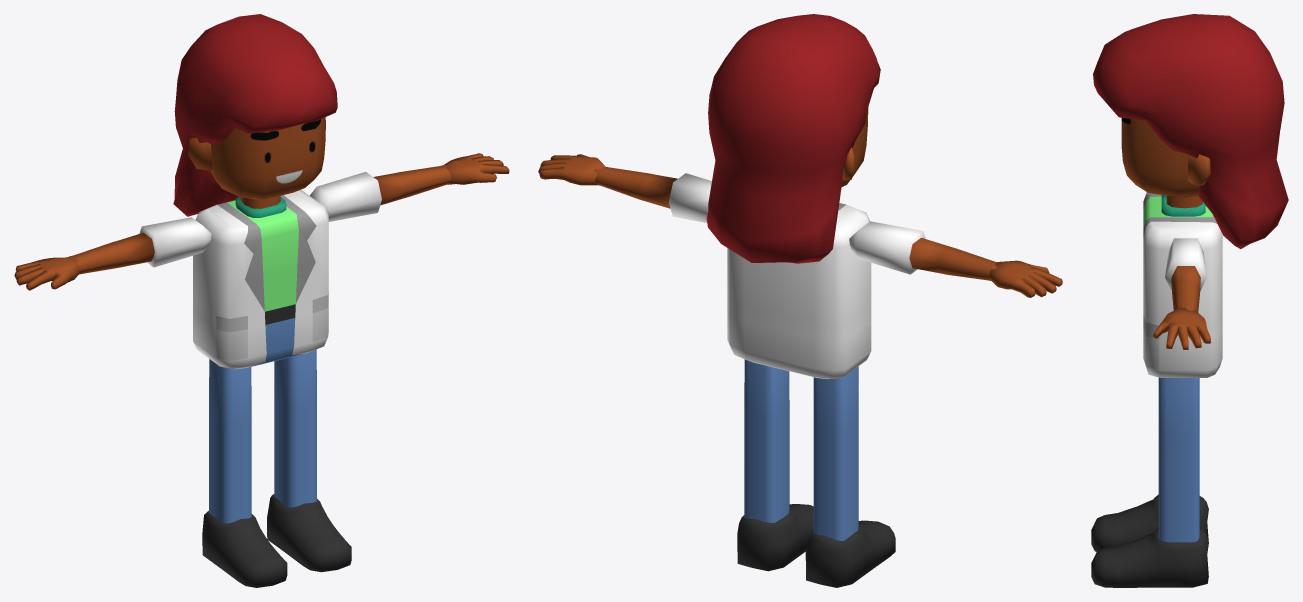
File: NPC_Yellow02_RedHair02.gltf
The picture shows the model from 3 angles, left to right: view 1: azimuth 30°, elevation 25°; view 2: azimuth 150°, elevation 25°; view 3: azimuth 270°, elevation 25°; orthographic projection. The views are drawn at different scales.
Parts seen in each view (by area): view 1: NPC_Corpo_Yellow2_RedHair.002; view 2: NPC_Corpo_Yellow2_RedHair.002; view 3: NPC_Corpo_Yellow2_RedHair.002.
Boxes of the visible parts, x1=… form: NPC_Corpo_Yellow2_RedHair.002: x1=14, y1=14, x2=509, y2=587; NPC_Corpo_Yellow2_RedHair.002: x1=538, y1=14, x2=1062, y2=587; NPC_Corpo_Yellow2_RedHair.002: x1=1091, y1=14, x2=1288, y2=587.
Size of the model in its own units: 2.31 by 2.33 by 0.7777.
1 material, 1 textured.
